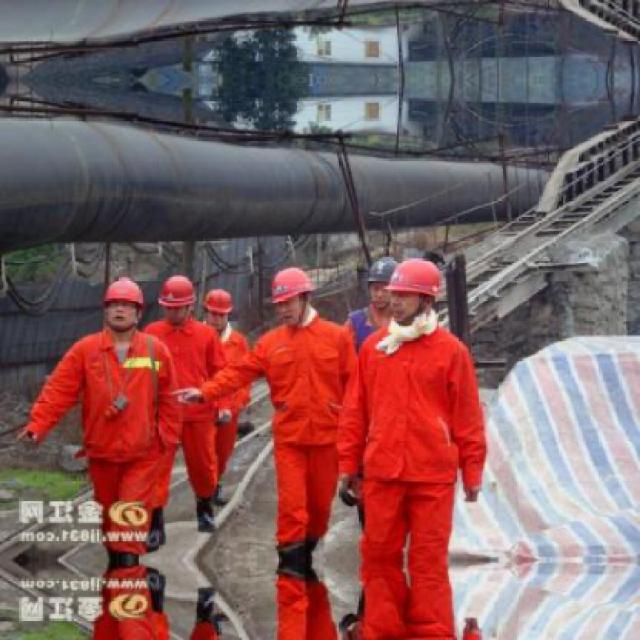helmet: (384, 257, 444, 328), (263, 266, 317, 326), (100, 277, 146, 334), (362, 254, 398, 311), (160, 272, 198, 323), (200, 283, 235, 328)
